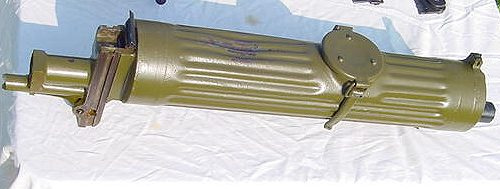rifle: (3, 5, 487, 169)
